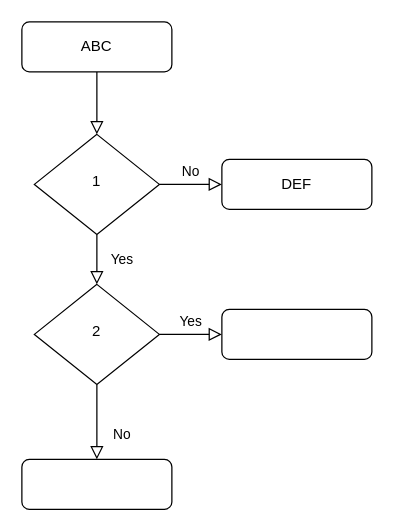
The diagram is 394 pixels wide and 531 high, and some of its shapes have lost their labels. The shapes that lost their labels are listed below. From the top down, each one's centre as x and y in pixels, then its label:
At point 296,333: "GHI".
At point 96,483: "JKL".
